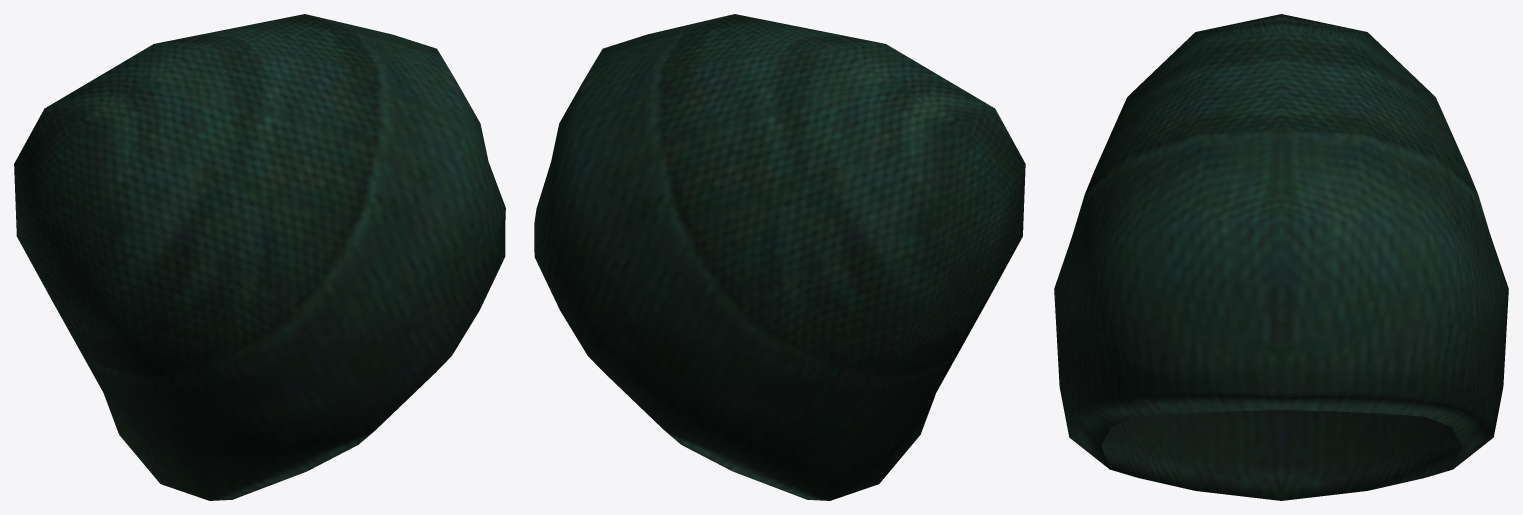
File: hat_0400041.FBX
3 views of the same model, side by side, from view 1: azimuth 30°, elevation 25°; view 2: azimuth 150°, elevation 25°; view 3: azimuth 270°, elevation 25° (orthographic). The views are drawn at different scales.
Parts seen in each view (by area): view 1: hat_0400041; view 2: hat_0400041; view 3: hat_0400041.
Part boxes in pixels (left/top/right/bottom): hat_0400041: left=14, top=14, right=505, bottom=500; hat_0400041: left=534, top=14, right=1025, bottom=500; hat_0400041: left=1054, top=14, right=1508, bottom=500.
Size of the model in its own units: 30.34 by 28.79 by 24.73.
